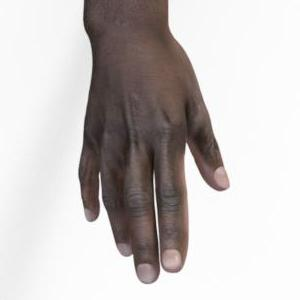paper: (79, 0, 229, 284)
